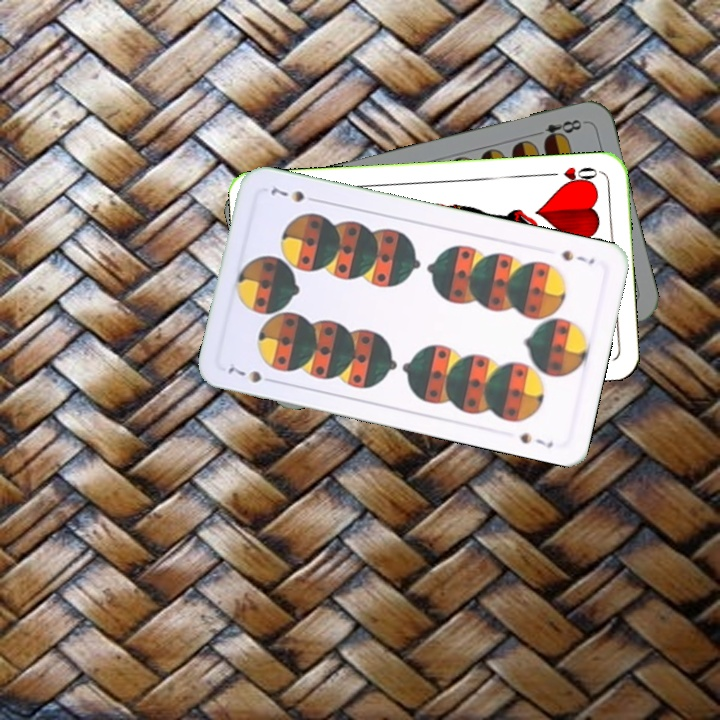E8: (529, 115, 584, 146)
HO: (543, 162, 602, 188)
S7: (223, 362, 279, 386), (558, 246, 597, 267)
